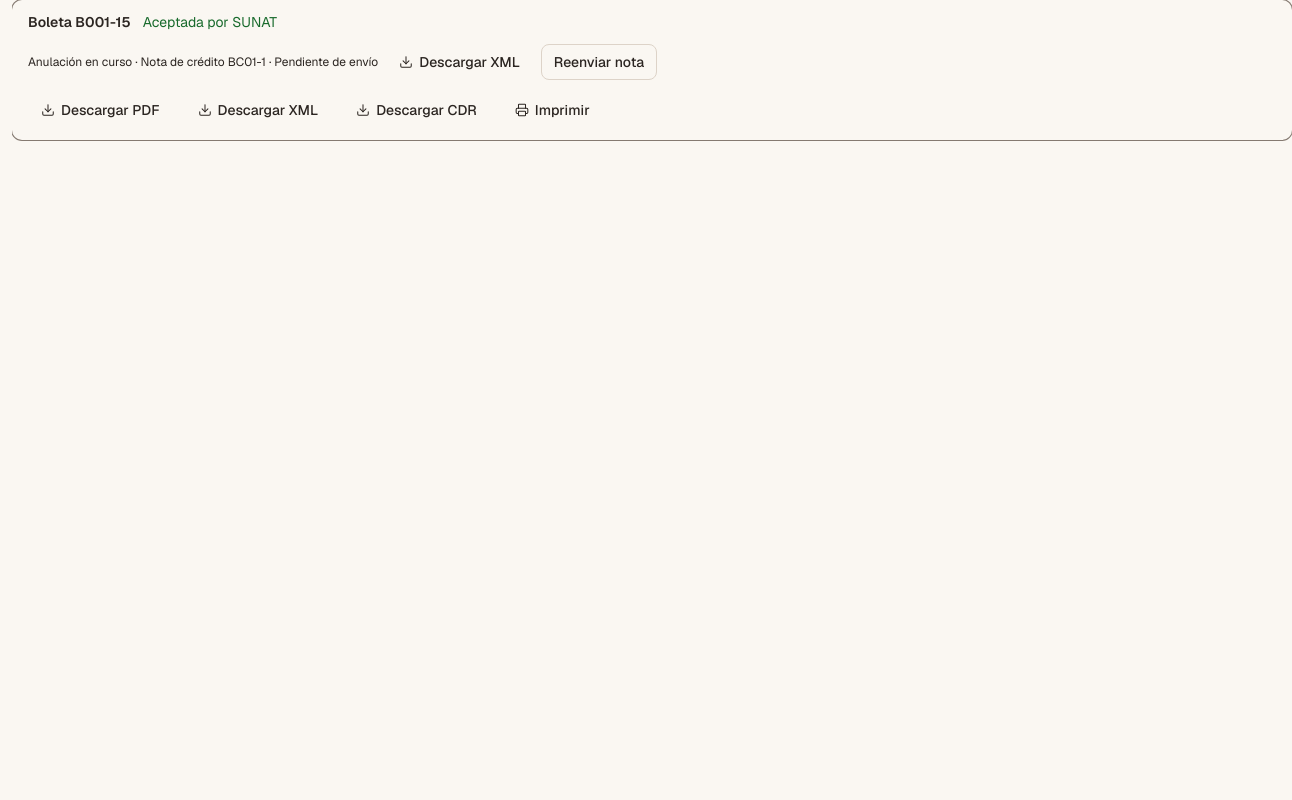
La nota de crédito en curso › pendiente: muestra su estado y «Reenviar nota»; al aceptarla, el comprobante queda anulado
expect the text "Anulación en curso · Nota de crédito BC01-1 · Pendiente de envío" is shown: met, box [28,54,378,70]
expect the button named "Descargar XML de la nota BC01-1" is shown: met, box [386,44,533,80]
What coordinates should you click on to do the following:
click the button "Reenviar nota"
I would click on:
 (599, 62)
Its box is [541,44,657,80].
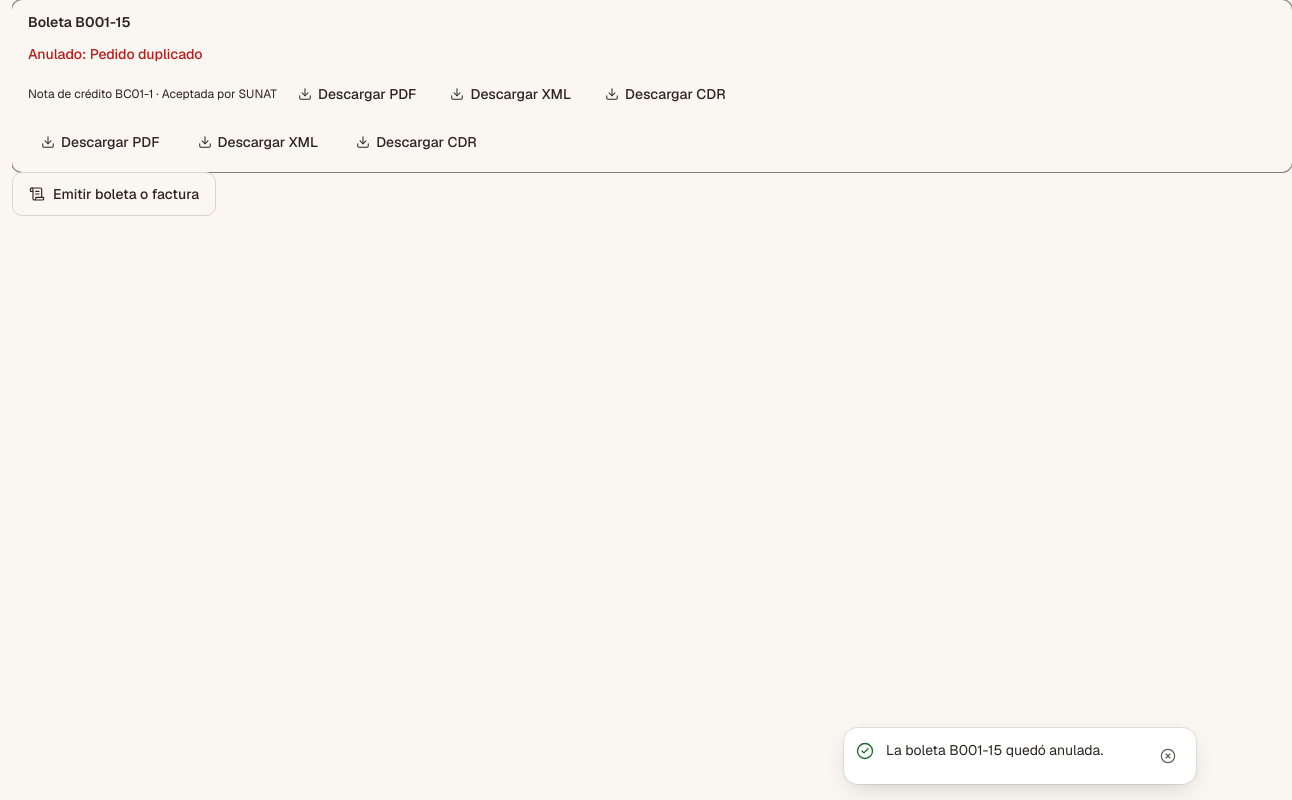
expect the text "Nota de crédito BC01-1 · Aceptada por SUNAT" is shown: met, box [28,86,277,102]
expect the button "Emitir boleta o factura" is shown: met, box [12,172,216,216]
